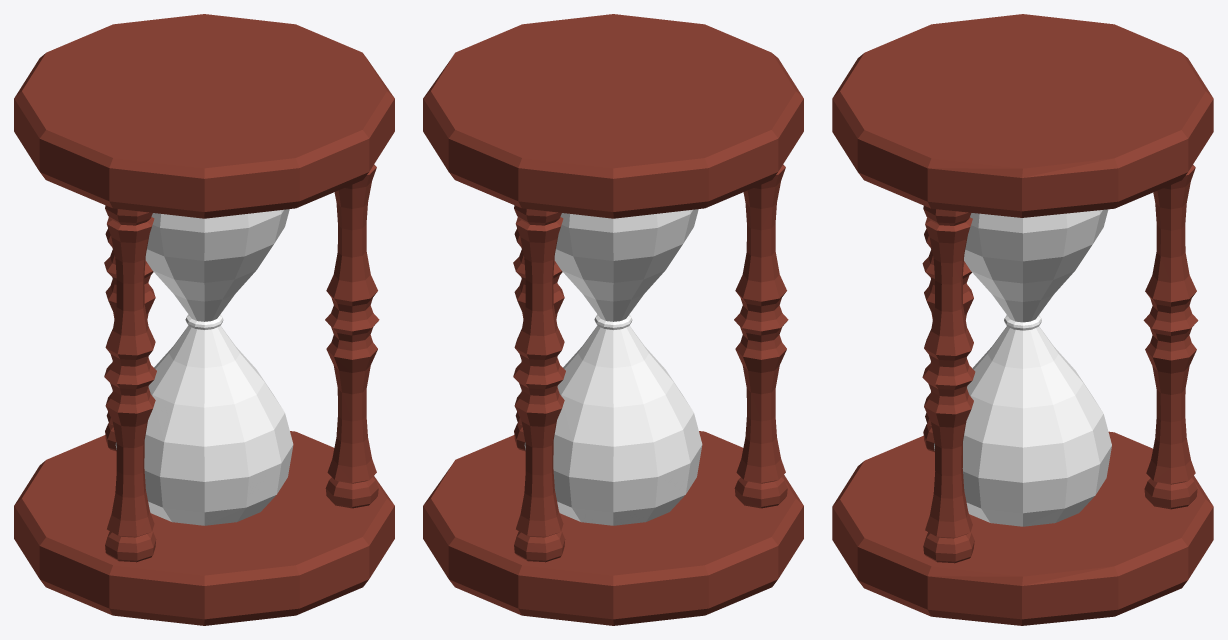
The model's file is 0nA658LJlU7.glb.
3 views of the same model, side by side, from view 1: azimuth 30°, elevation 25°; view 2: azimuth 150°, elevation 25°; view 3: azimuth 270°, elevation 25° (orthographic).
Parts seen in each view (by area): view 1: Node; view 2: Node; view 3: Node.
Boxes of the visible parts, left/top/right/bottom form: Node: left=14, top=14, right=394, bottom=625; Node: left=423, top=14, right=803, bottom=625; Node: left=832, top=14, right=1213, bottom=625.
Size of the model in its own units: 5.83 by 7.78 by 5.87.
